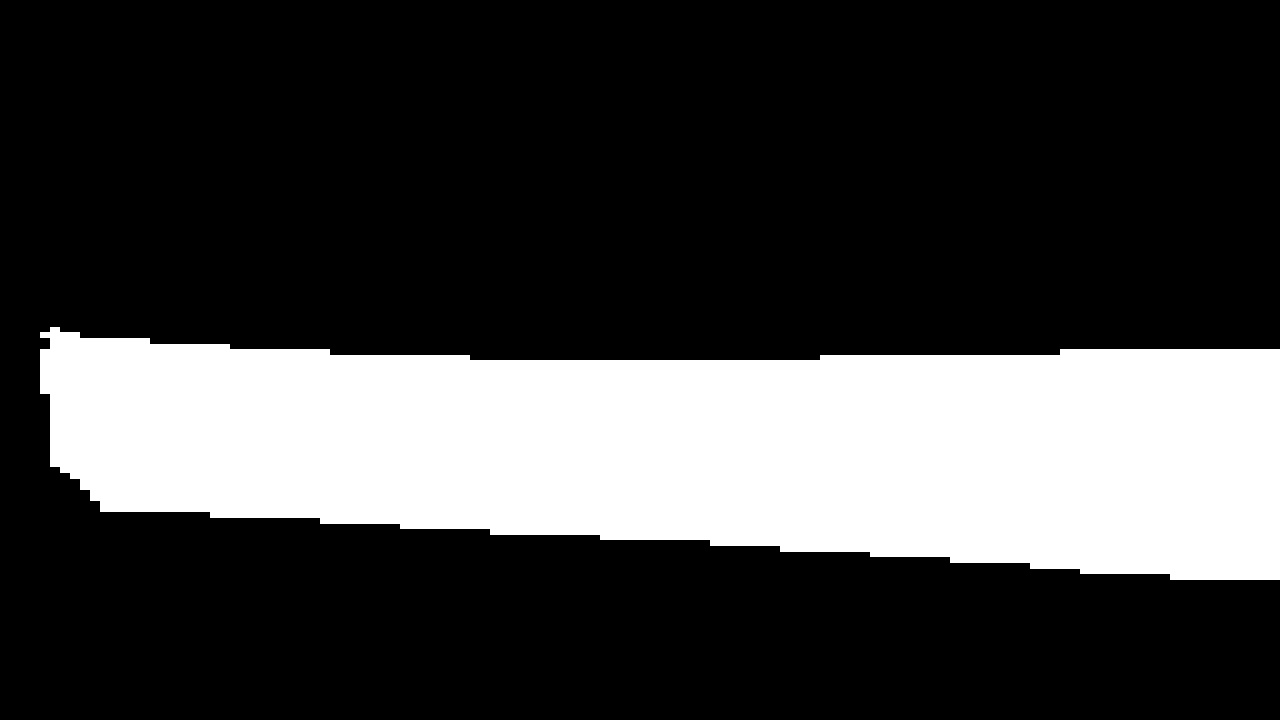Turbine: (36, 326, 1263, 584)
